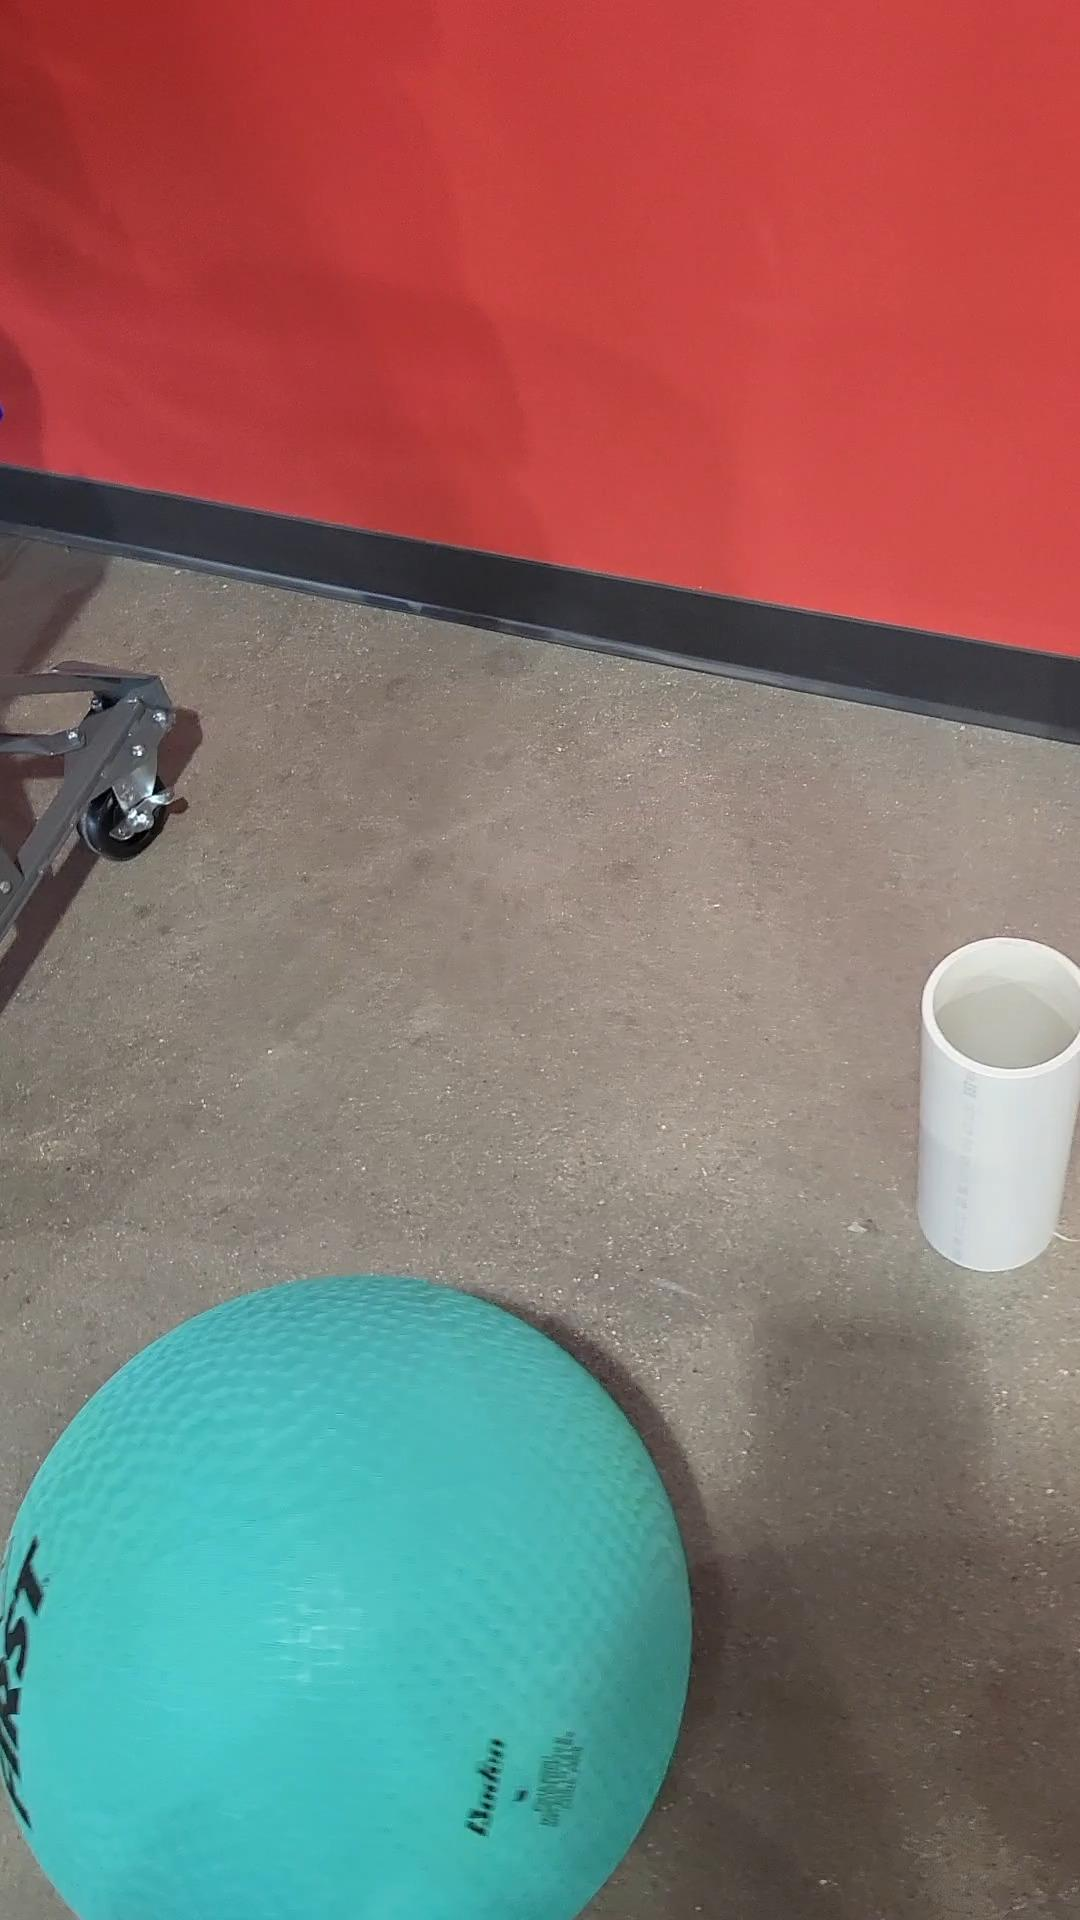algae: (0, 1271, 696, 1920)
coral: (913, 931, 1080, 1275)
